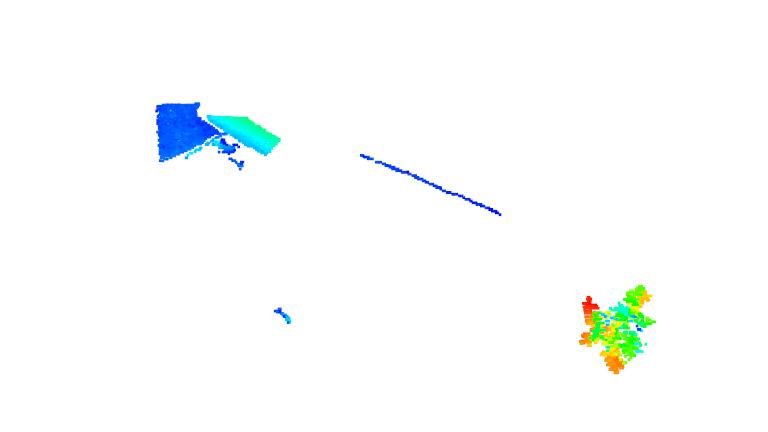chickpea: (573, 281, 659, 376)
